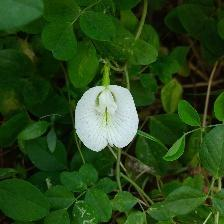shankupushpam: (72, 83, 141, 155)
